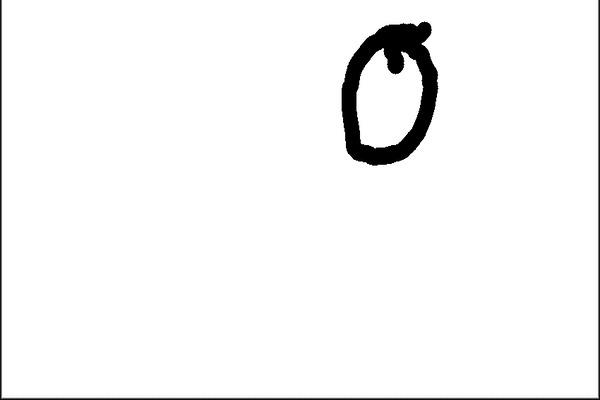O: (333, 14, 444, 169)
